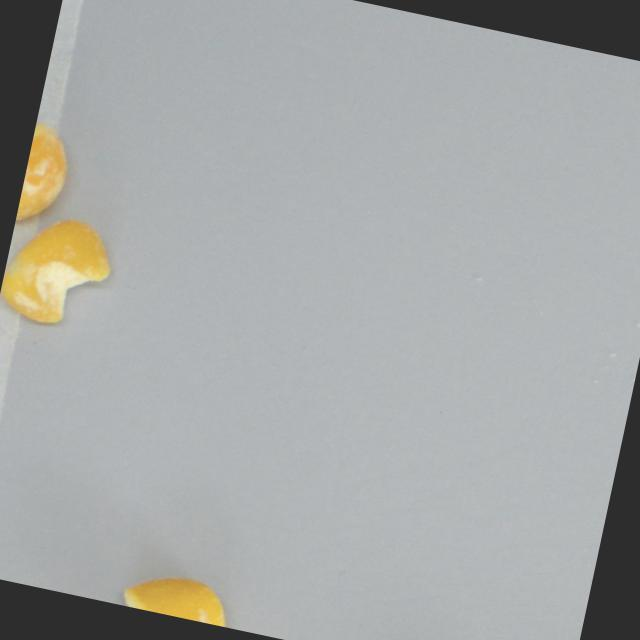dañado: (109, 561, 245, 629)
pelicula: (0, 204, 123, 336), (14, 120, 80, 231)
